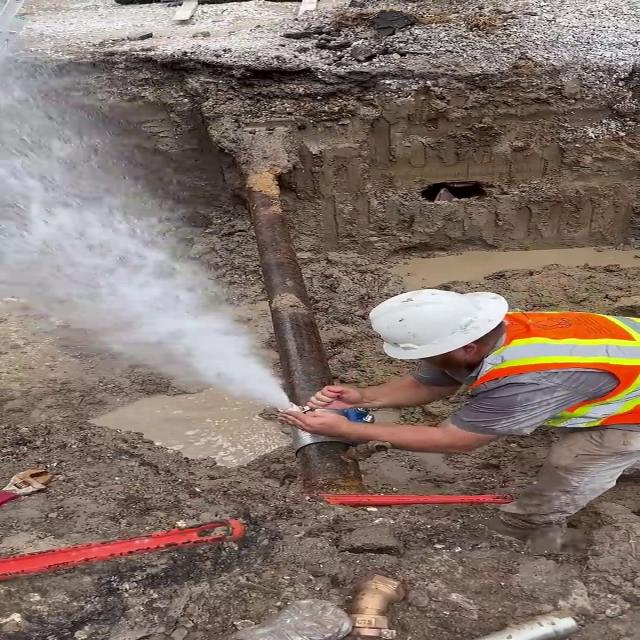leak: (0, 45, 290, 423)
